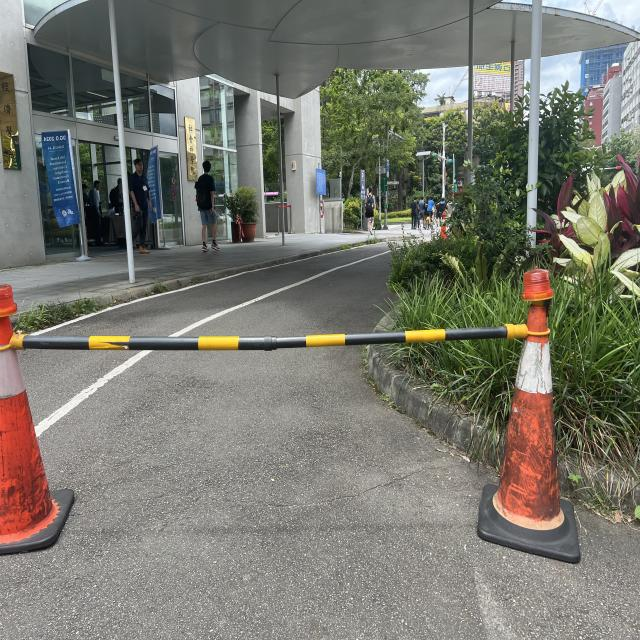cone: (490, 283, 572, 554), (5, 287, 86, 549)
plant: (223, 185, 258, 243)
